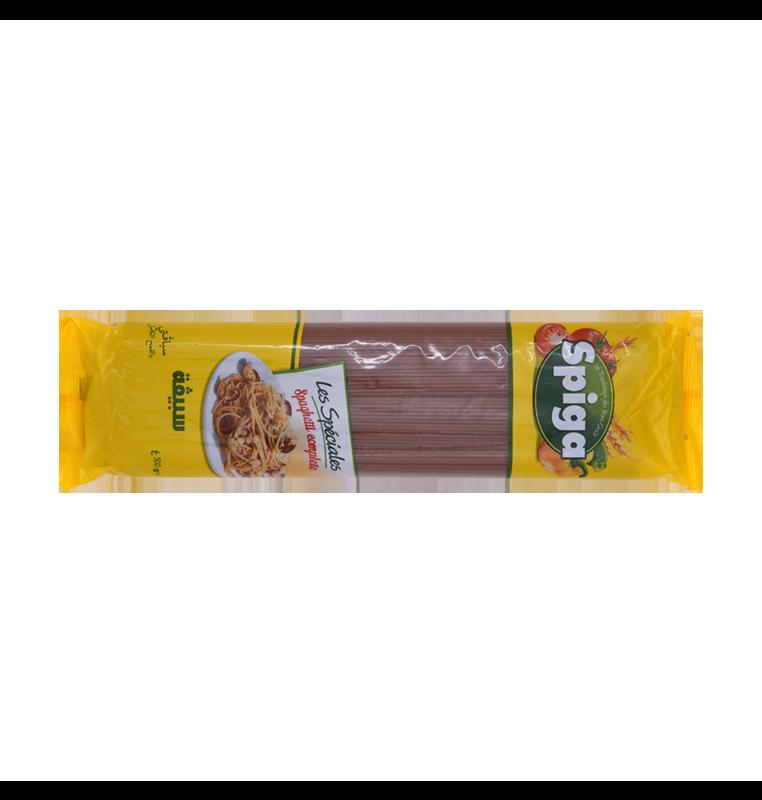Spaghetti: (70, 323, 692, 474)
